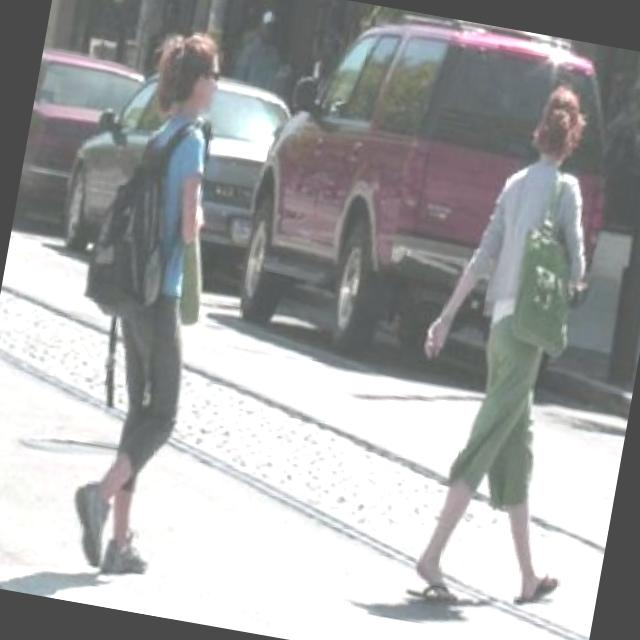Person: (373, 62, 640, 633), (44, 18, 246, 583)
